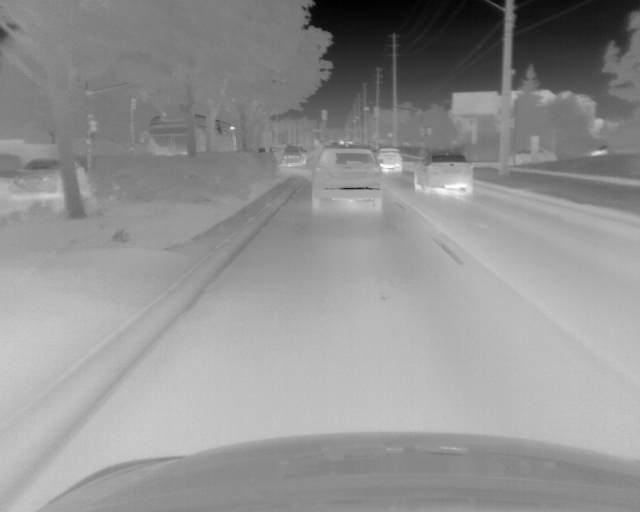car: (311, 148, 383, 213), (15, 157, 87, 194), (413, 153, 473, 195), (377, 148, 402, 170), (282, 146, 306, 166)
